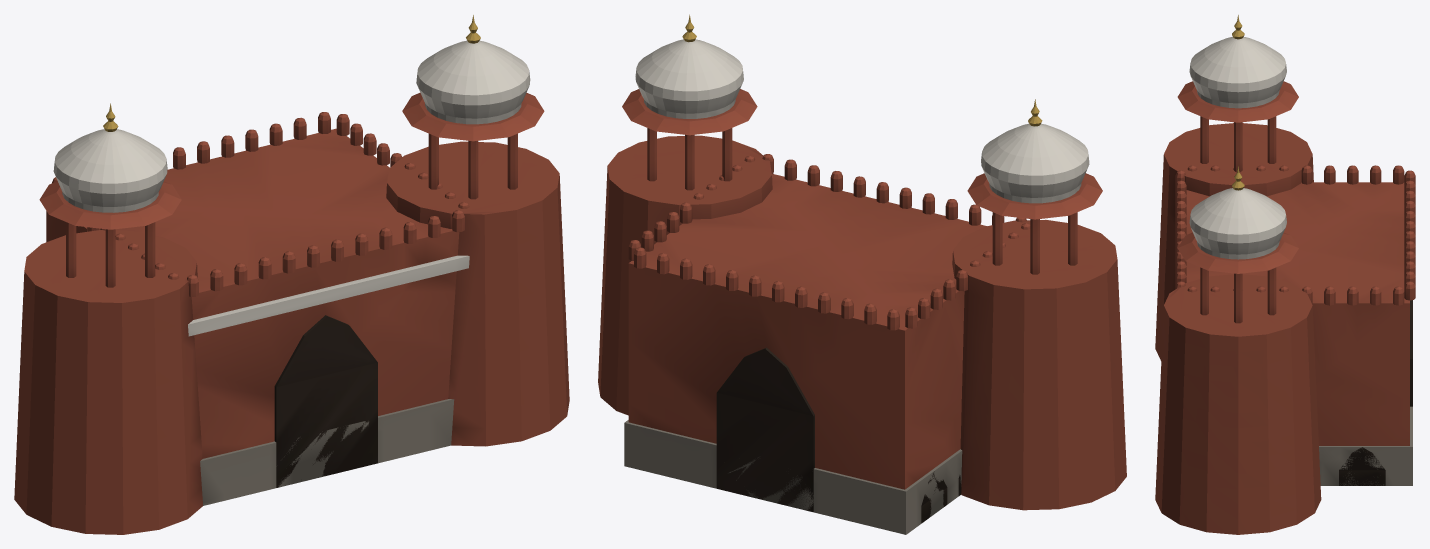
File: sher-shah-gate.glb
3 renders of one model, left to right at view 1: azimuth 30°, elevation 25°; view 2: azimuth 150°, elevation 25°; view 3: azimuth 270°, elevation 25°, orthographic. The views are drawn at different scales.
Parts seen in each view (by area): view 1: p1_bastions, p0_gate; view 2: p0_gate, p1_bastions; view 3: p1_bastions, p0_gate.
Boxes of the visible parts, x1,y1,x2,y2 form: p1_bastions: (14,15,569,534); p0_gate: (46,128,459,505); p0_gate: (624,174,986,534); p1_bastions: (598,14,1126,510); p1_bastions: (1155,15,1415,534); p0_gate: (1186,182,1412,485).
Bounding box in the file's own units: 36.6 × 25.81 × 18.2.
